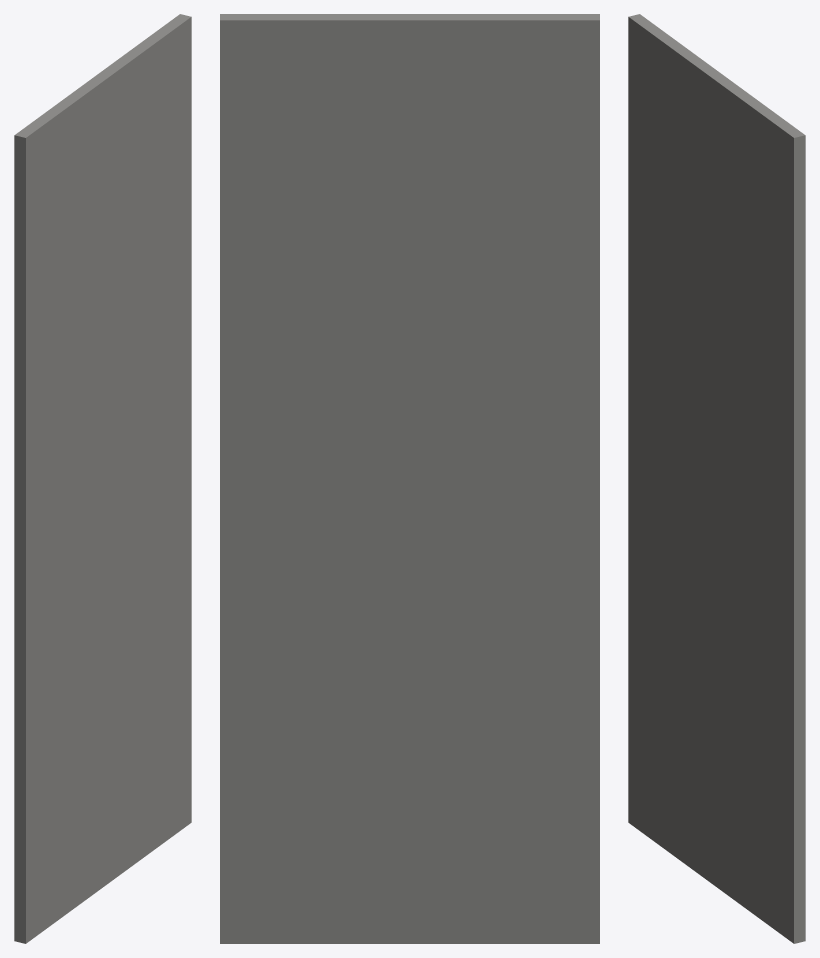
The model's file is SM_Bldg_City_Airport_Jetway_Door_09_Collider.fbx.
3 renders of one model, left to right at view 1: azimuth 30°, elevation 25°; view 2: azimuth 150°, elevation 25°; view 3: azimuth 270°, elevation 25°, orthographic. The views are drawn at different scales.
Parts seen in each view (by area): view 1: SM_Bldg_City_Airport_Jetway_Door_09_Collider; view 2: SM_Bldg_City_Airport_Jetway_Door_09_Collider; view 3: SM_Bldg_City_Airport_Jetway_Door_09_Collider.
Part boxes in pixels (x1=…): SM_Bldg_City_Airport_Jetway_Door_09_Collider: x1=14, y1=14, x2=191, y2=943; SM_Bldg_City_Airport_Jetway_Door_09_Collider: x1=220, y1=14, x2=599, y2=943; SM_Bldg_City_Airport_Jetway_Door_09_Collider: x1=628, y1=14, x2=805, y2=943.
Bounding box in the file's own units: 69.31 × 210 × 41.81.
